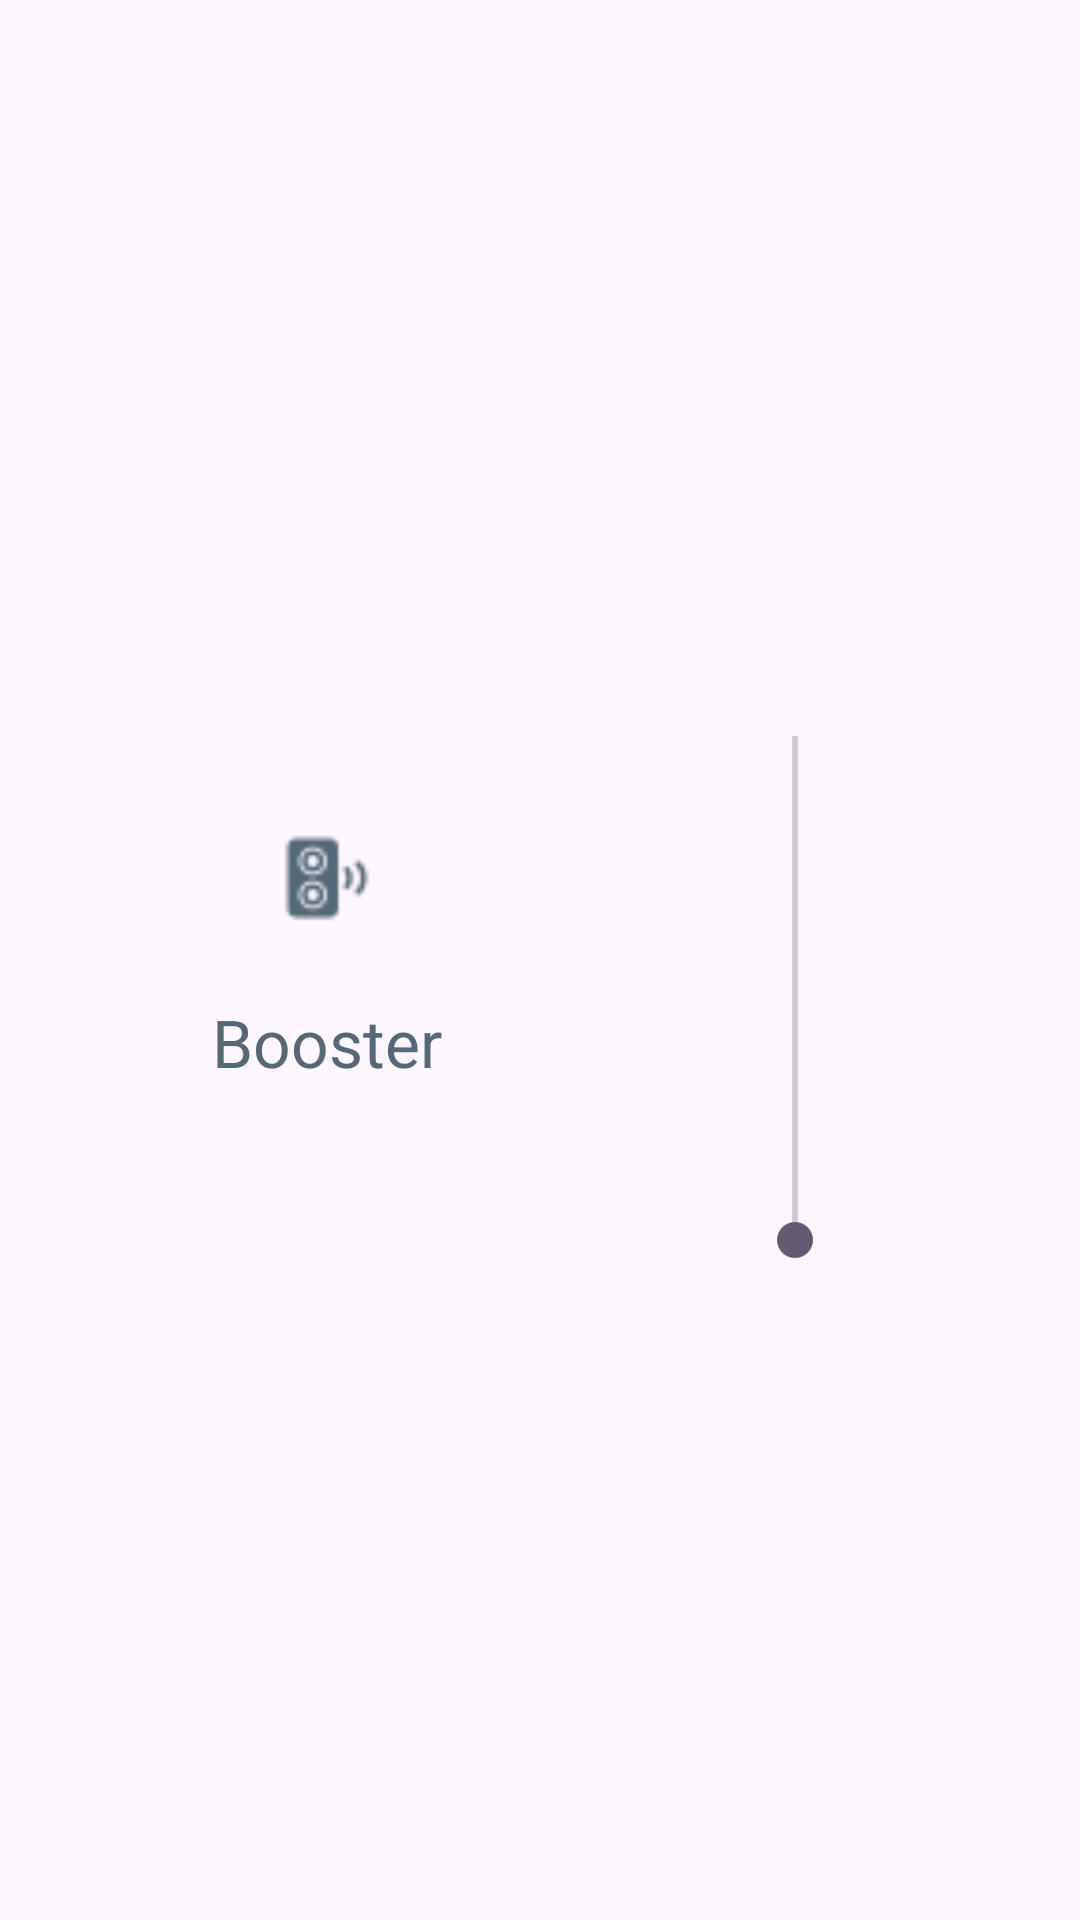

Icons on this 1080w x 1920h Android screen, each with the point to tap as (x=x, y=y):
speaker: (x=327, y=878)
